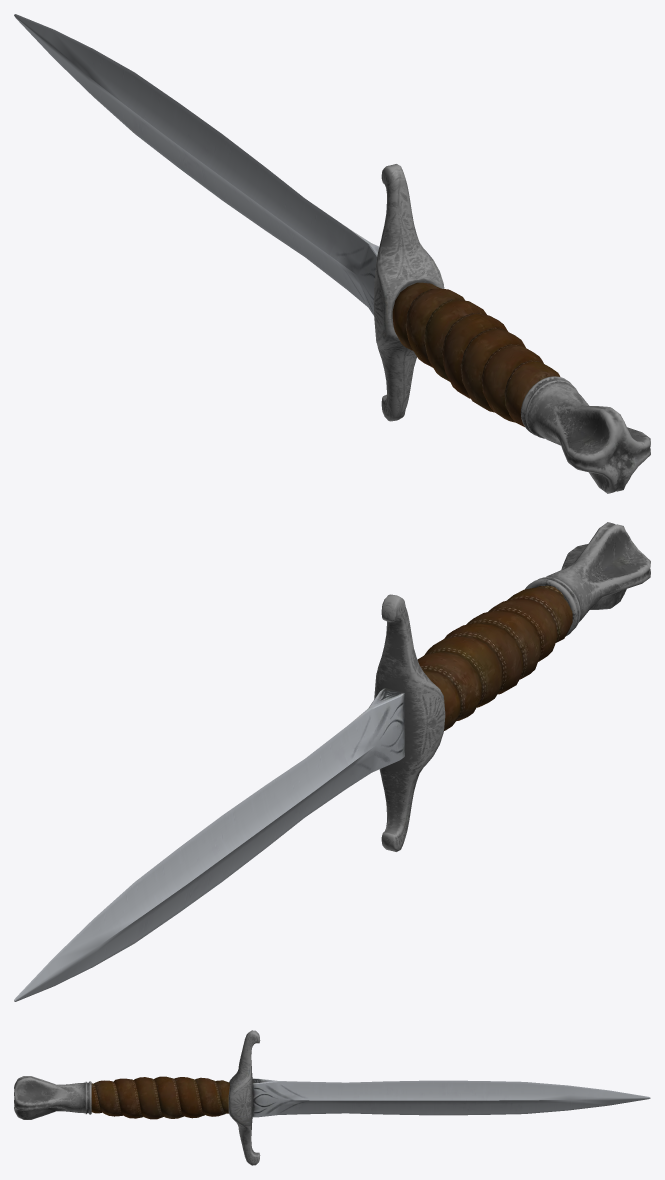
Rendered from b_sovalye.glb.
3 views of the same model, one above another, from view 1: azimuth 30°, elevation 25°; view 2: azimuth 150°, elevation 25°; view 3: azimuth 270°, elevation 25° (orthographic). The views are drawn at different scales.
Visible parts, largest first — view 1: govde; view 2: govde; view 3: govde.
Part boxes in pixels (x1,y1,x2,y2): govde: (14,14,650,493); govde: (14,522,650,1001); govde: (14,1030,650,1165).
Bounding box in the file's own units: 0.0275 × 0.0878 × 0.3805.
1 material, 1 textured.
